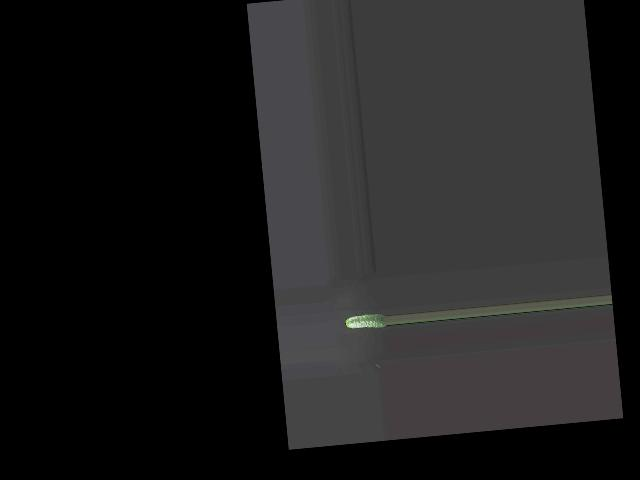cucumber: (345, 313, 387, 331)
